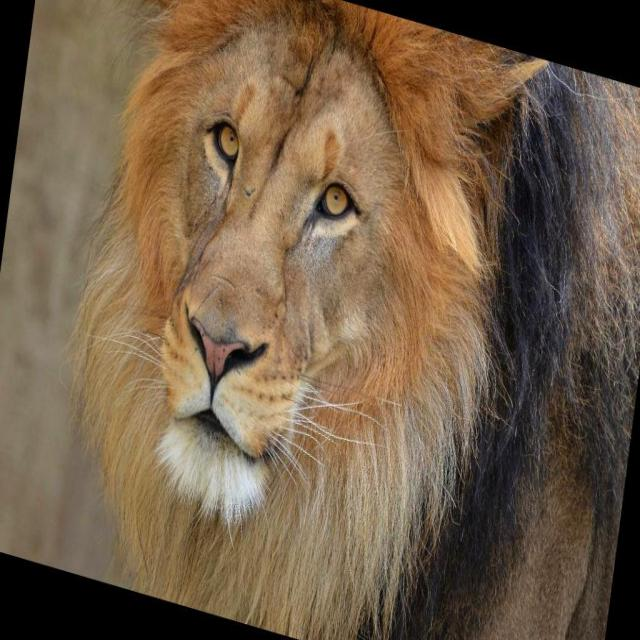Lion: (32, 0, 639, 639)
